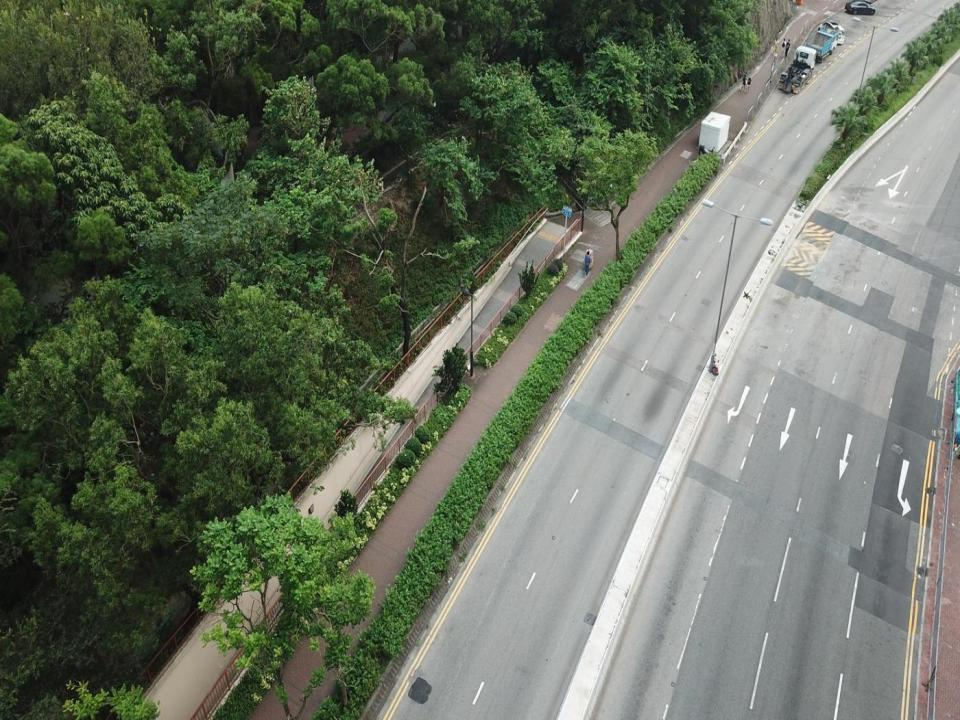car: (845, 1, 876, 15)
truck: (778, 46, 816, 94), (806, 26, 839, 63)
van: (817, 21, 845, 45)
